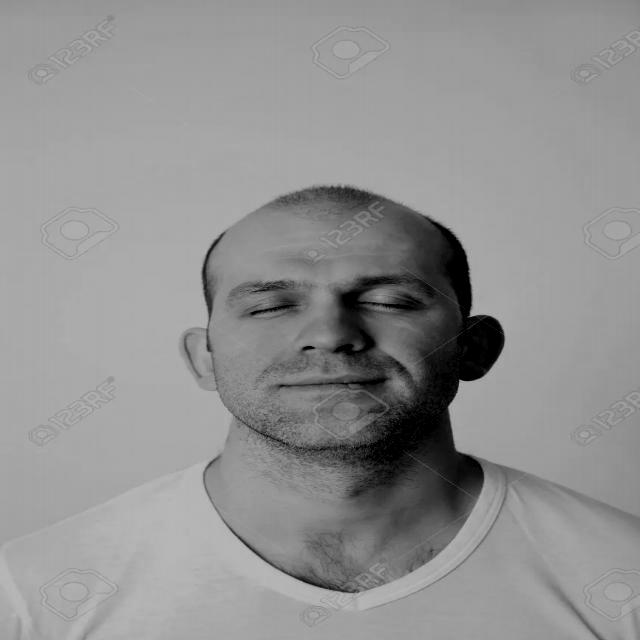real: (178, 212, 507, 450), (212, 271, 462, 322)
